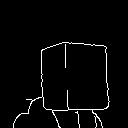cube: (18, 37, 119, 120)
